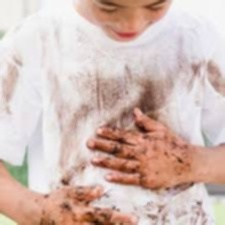earth: (88, 80, 123, 107), (138, 82, 166, 108), (3, 66, 20, 98), (146, 204, 168, 224), (64, 122, 76, 154), (208, 63, 222, 89), (106, 110, 130, 125), (192, 203, 206, 223), (61, 174, 71, 184)
